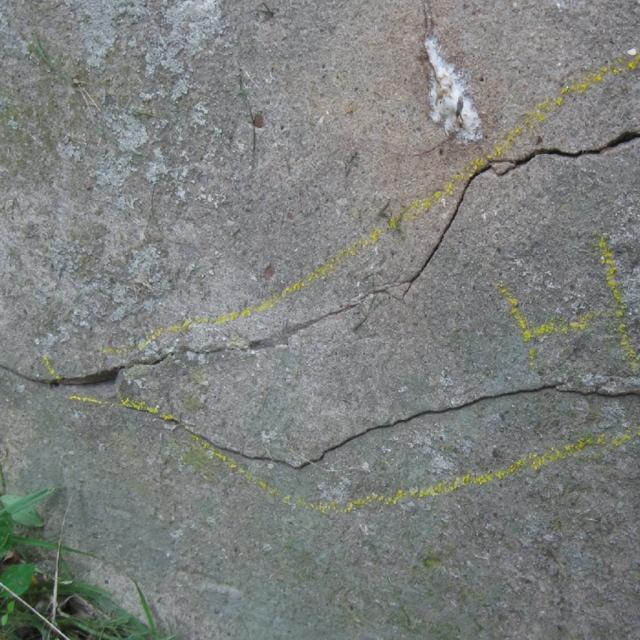D01: (426, 38, 481, 140)
